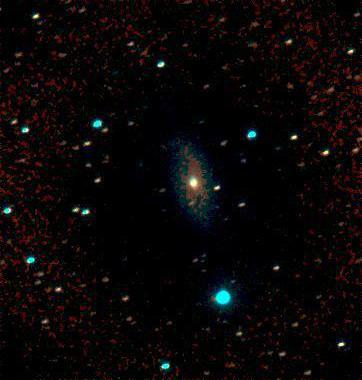star: (180, 186, 210, 216)
